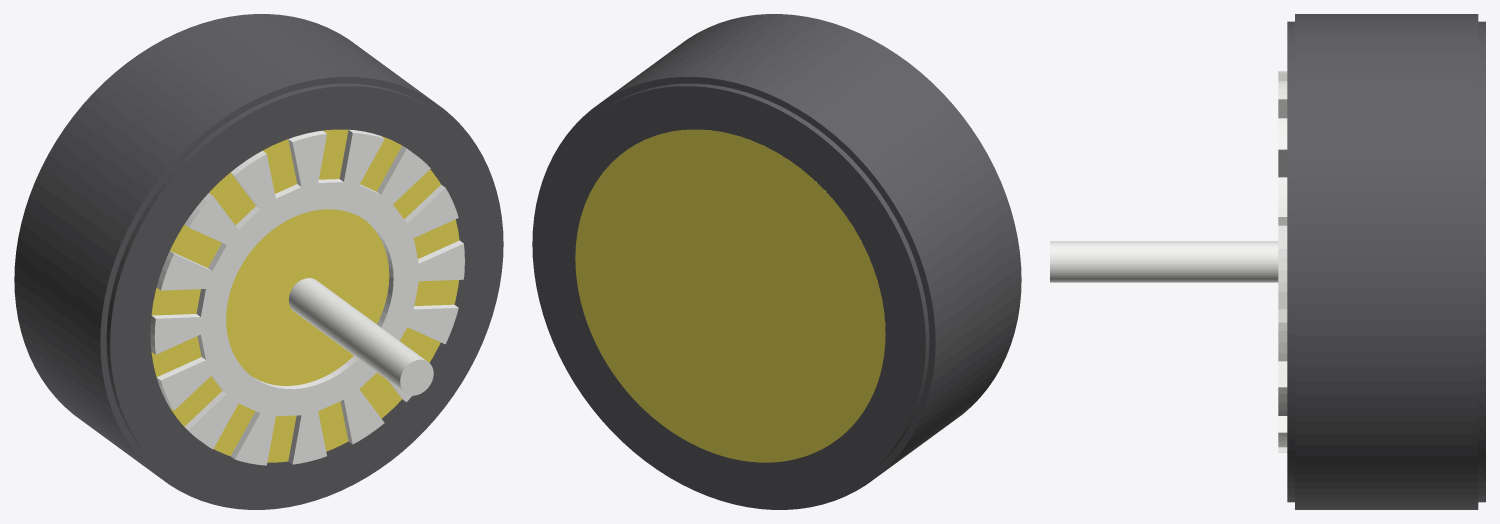
Rendered from wheel_l.glb.
3 views of the same model, side by side, from view 1: azimuth 30°, elevation 25°; view 2: azimuth 150°, elevation 25°; view 3: azimuth 270°, elevation 25° (orthographic). The views are drawn at different scales.
Parts seen in each view (by area): view 1: tyre_l, encoder_ring_l, rim_l, tt_shaft_l; view 2: tyre_l, rim_l; view 3: tyre_l, tt_shaft_l, encoder_ring_l.
Boxes of the visible parts, left/top/right/bottom form: tyre_l: left=14, top=14, right=503, bottom=509; encoder_ring_l: left=150, top=129, right=464, bottom=465; rim_l: left=151, top=129, right=459, bottom=462; tt_shaft_l: left=288, top=278, right=433, bottom=395; tyre_l: left=532, top=14, right=1021, bottom=509; rim_l: left=575, top=129, right=885, bottom=462; tyre_l: left=1287, top=14, right=1485, bottom=509; tt_shaft_l: left=1050, top=241, right=1278, bottom=282; encoder_ring_l: left=1278, top=71, right=1287, bottom=452.
Bounding box in the file's own units: 0.065 × 0.065 × 0.0571.
